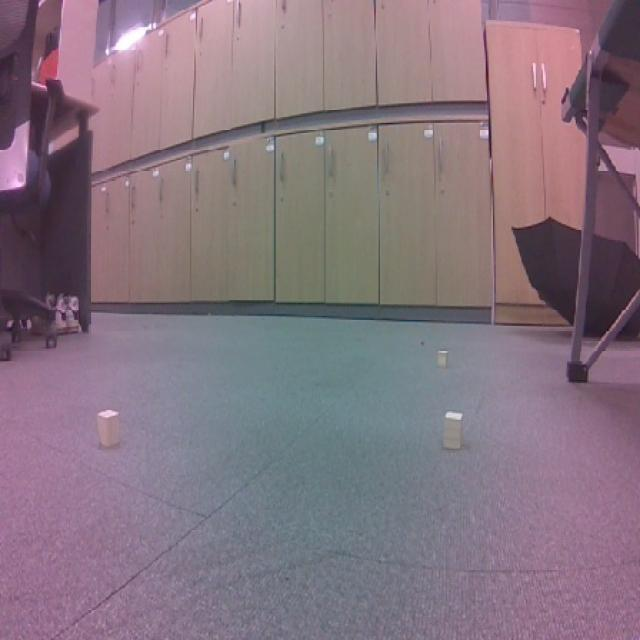obstacle: (89, 402, 137, 454), (432, 405, 474, 457)
